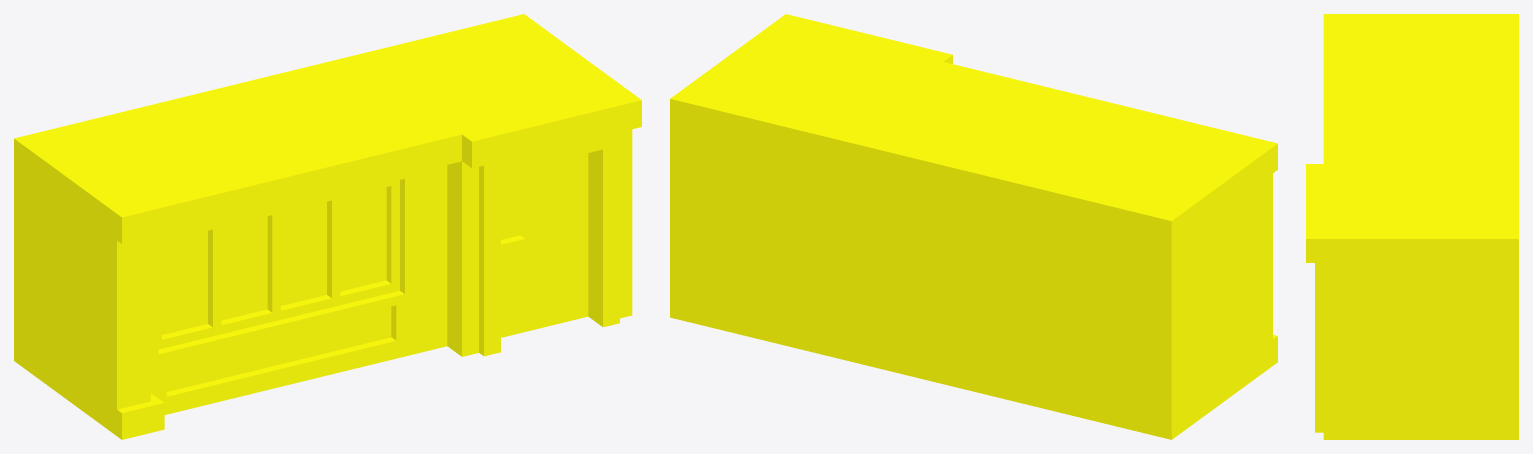
The model's file is BuildingBlock_1.glb.
3 views of the same model, side by side, from view 1: azimuth 30°, elevation 25°; view 2: azimuth 150°, elevation 25°; view 3: azimuth 270°, elevation 25° (orthographic). The views are drawn at different scales.
Parts seen in each view (by area): view 1: BuildingBlock_1; view 2: BuildingBlock_1; view 3: BuildingBlock_1.
Part boxes in pixels (bbox=[...]): BuildingBlock_1: bbox=[14, 14, 641, 439]; BuildingBlock_1: bbox=[670, 14, 1277, 439]; BuildingBlock_1: bbox=[1306, 14, 1518, 439].
Bounding box in the file's own units: 6 × 2.5 × 2.4.
1 material, 1 textured.
